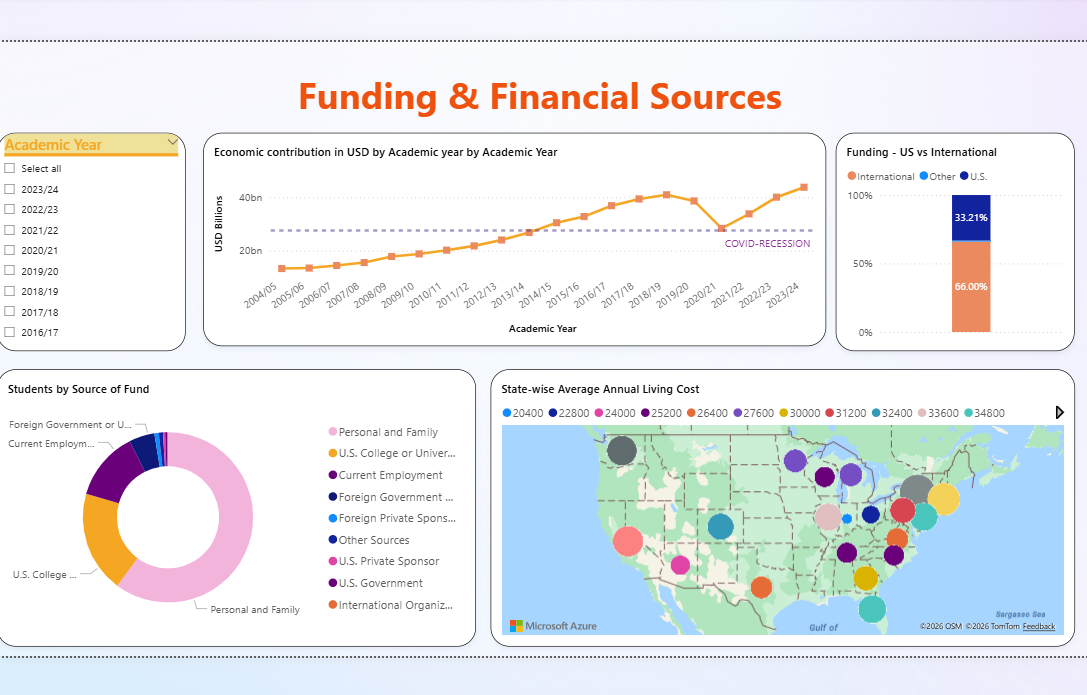

The page's visual inventory and layout, read from the dashboard file:
{"tool":"powerbi","page":{"name":"Funding & Financial Sources","canvas":[1280,720],"ordinal":4},"visuals":[{"type":"textbox","box":[10,26.7,1253.3,80],"z":5000},{"type":"slicer","fields":{"Values":["nafsa_real.academic_year"]},"box":[0,107.1,221.4,255.7],"z":5001},{"type":"lineChart","fields":{"Category":["nafsa_real.academic_year"],"Y":["Sum(nafsa_real.economic_contribution_usd)"]},"box":[241.7,106.7,730,250],"z":5002},{"type":"donutChart","title":"Students by Source of Fund","fields":{"Category":["source_of_fund.source_of_fund"],"Y":["Sum(source_of_fund.students)"]},"box":[0,383.3,561.7,325],"z":5003},{"type":"hundredPercentStackedColumnChart","title":"Funding - US vs International","fields":{"Series":["source_of_fund.source_type"],"Y":["Sum(source_of_fund.students)"]},"box":[982.9,107.1,280,255.7],"z":5004},{"type":"azureMap","title":"State-wise Average Annual Living Cost","fields":{"Category":["cost_of_living_by_state.state"],"Series":["cost_of_living_by_state.avg_annual_living_usd"],"Size":["Sum(cost_of_living_by_state.avg_annual_living_usd)"]},"box":[578.3,383.3,685,325],"z":5005}]}

Visuals, with their boxes on the page's 1280x720 design canvas (x1, y1, x2, y2). These are canvas units, not pixel positions in the 1087x695 screenshot, which may show the page scaled, cropped or inside an application window:
textbox: l=10, t=27, r=1263, b=107
slicer - nafsa_real.academic_year: l=0, t=107, r=221, b=363
lineChart - nafsa_real.academic_year x Sum(nafsa_real.economic_contribution_usd): l=242, t=107, r=972, b=357
"Students by Source of Fund" donutChart: l=0, t=383, r=562, b=708
"Funding - US vs International" hundredPercentStackedColumnChart: l=983, t=107, r=1263, b=363
"State-wise Average Annual Living Cost" azureMap: l=578, t=383, r=1263, b=708
